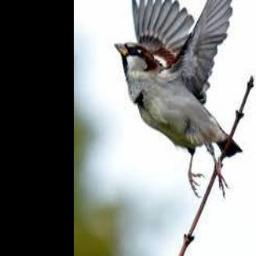Sparrow: (114, 0, 242, 197)
